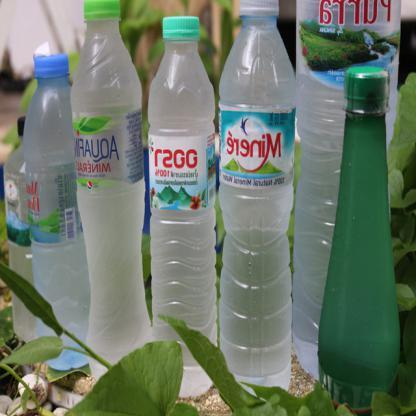bottle: (287, 0, 408, 390), (215, 0, 304, 415), (67, 1, 152, 405), (317, 29, 404, 416), (0, 50, 81, 382), (150, 15, 216, 402), (312, 0, 408, 196)
